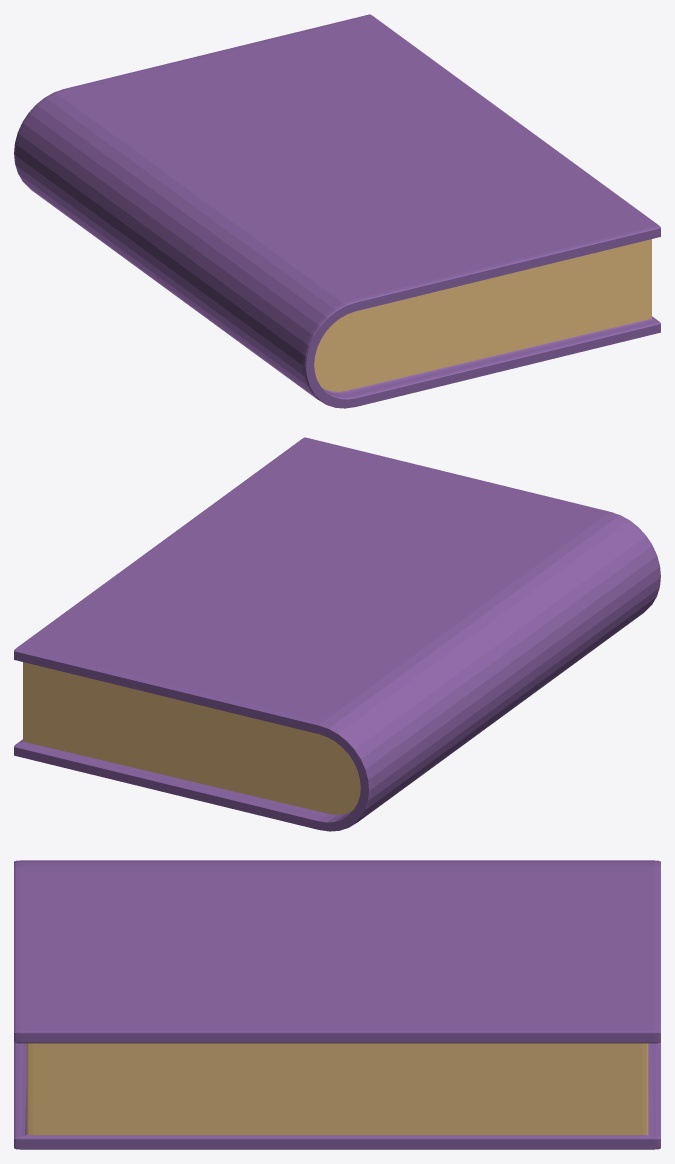
The model's file is BookPurple.fbx.
3 views of the same model, one above another, from view 1: azimuth 30°, elevation 25°; view 2: azimuth 150°, elevation 25°; view 3: azimuth 270°, elevation 25° (orthographic). The views are drawn at different scales.
Parts seen in each view (by area): view 1: Book.004; view 2: Book.004; view 3: Book.004.
Part boxes in pixels (box(x1,y1,x2,y2)): Book.004: box(14, 14, 660, 408); Book.004: box(14, 437, 660, 831); Book.004: box(14, 860, 660, 1149).
Bounding box in the file's own units: 702 × 200 × 995.
